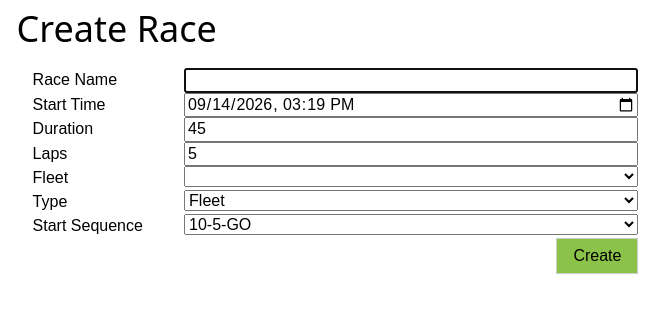
Test: when creating a new race › displays the failure message on failure
Click the button "Create".
click(597, 256)  # box [556,238,638,274]
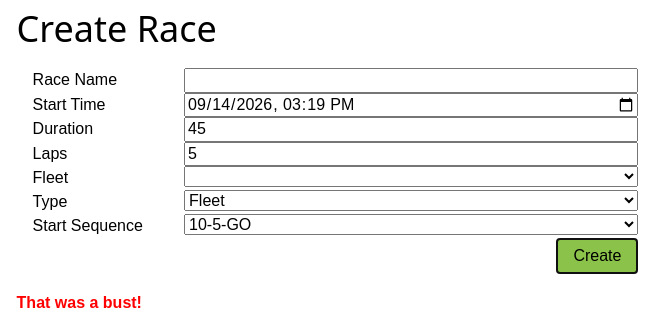
expect the text "That was a bust!" is shown: met, box [17,294,142,310]
